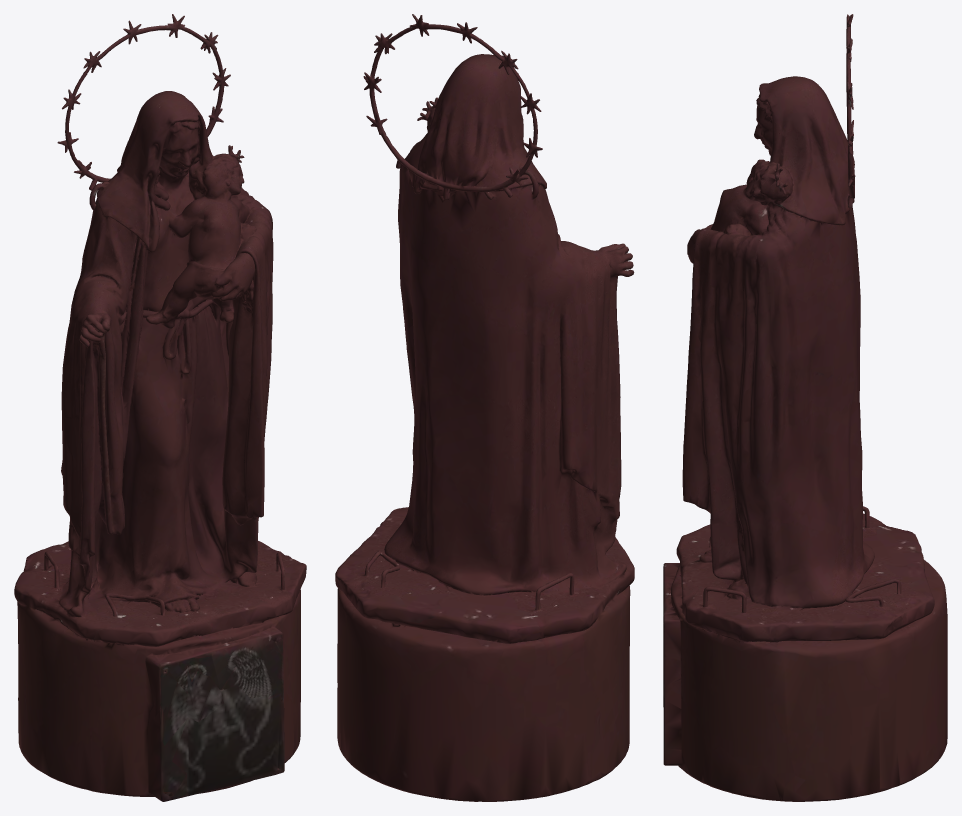
Rendered from virgen_meri_sosteniendo_a_Jesus_MALFORMADO.glb.
3 renders of one model, left to right at view 1: azimuth 30°, elevation 25°; view 2: azimuth 150°, elevation 25°; view 3: azimuth 270°, elevation 25°, orthographic. The views are drawn at different scales.
Bounding box in the file's own units: 0.6941 × 1.9 × 0.6754.
Materials: 1 (1 with a texture image).
